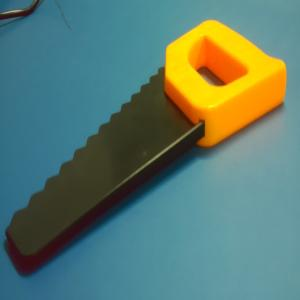serrote: (4, 18, 289, 277)
